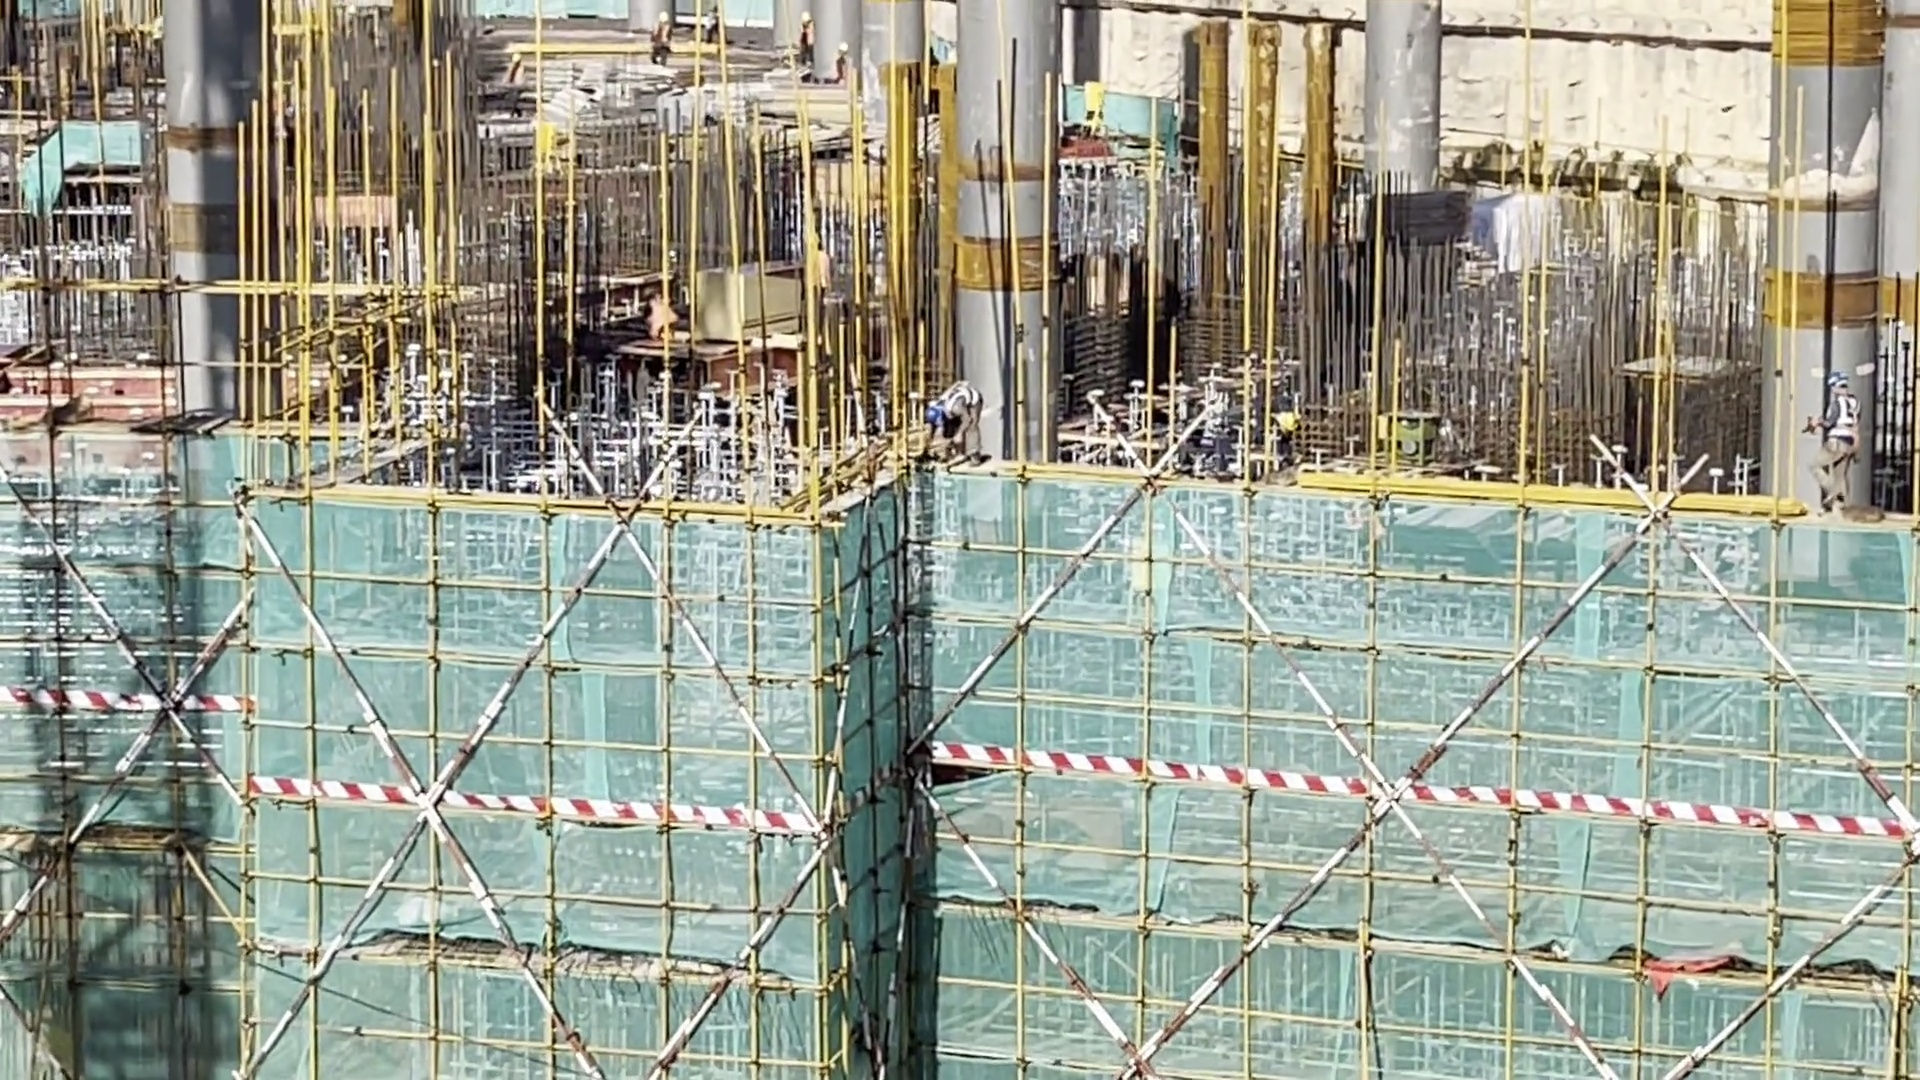helmet: (1281, 416, 1301, 442), (1826, 374, 1851, 394), (924, 399, 939, 427), (641, 287, 657, 303), (796, 12, 813, 25), (836, 40, 850, 50), (512, 53, 522, 63), (658, 13, 668, 22)
person: (1803, 370, 1858, 512), (913, 385, 984, 465), (1266, 398, 1296, 485), (636, 286, 683, 338), (644, 3, 671, 68), (796, 8, 829, 60), (831, 36, 858, 86), (508, 51, 526, 115), (706, 1, 733, 41)
vest: (1816, 396, 1858, 446), (946, 389, 979, 426), (651, 300, 677, 330), (650, 23, 675, 45), (796, 23, 818, 42), (705, 8, 724, 30), (508, 65, 524, 90), (833, 52, 847, 75)
